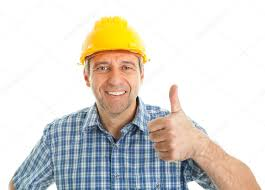Person_wearing_helmet: (71, 12, 151, 80)
